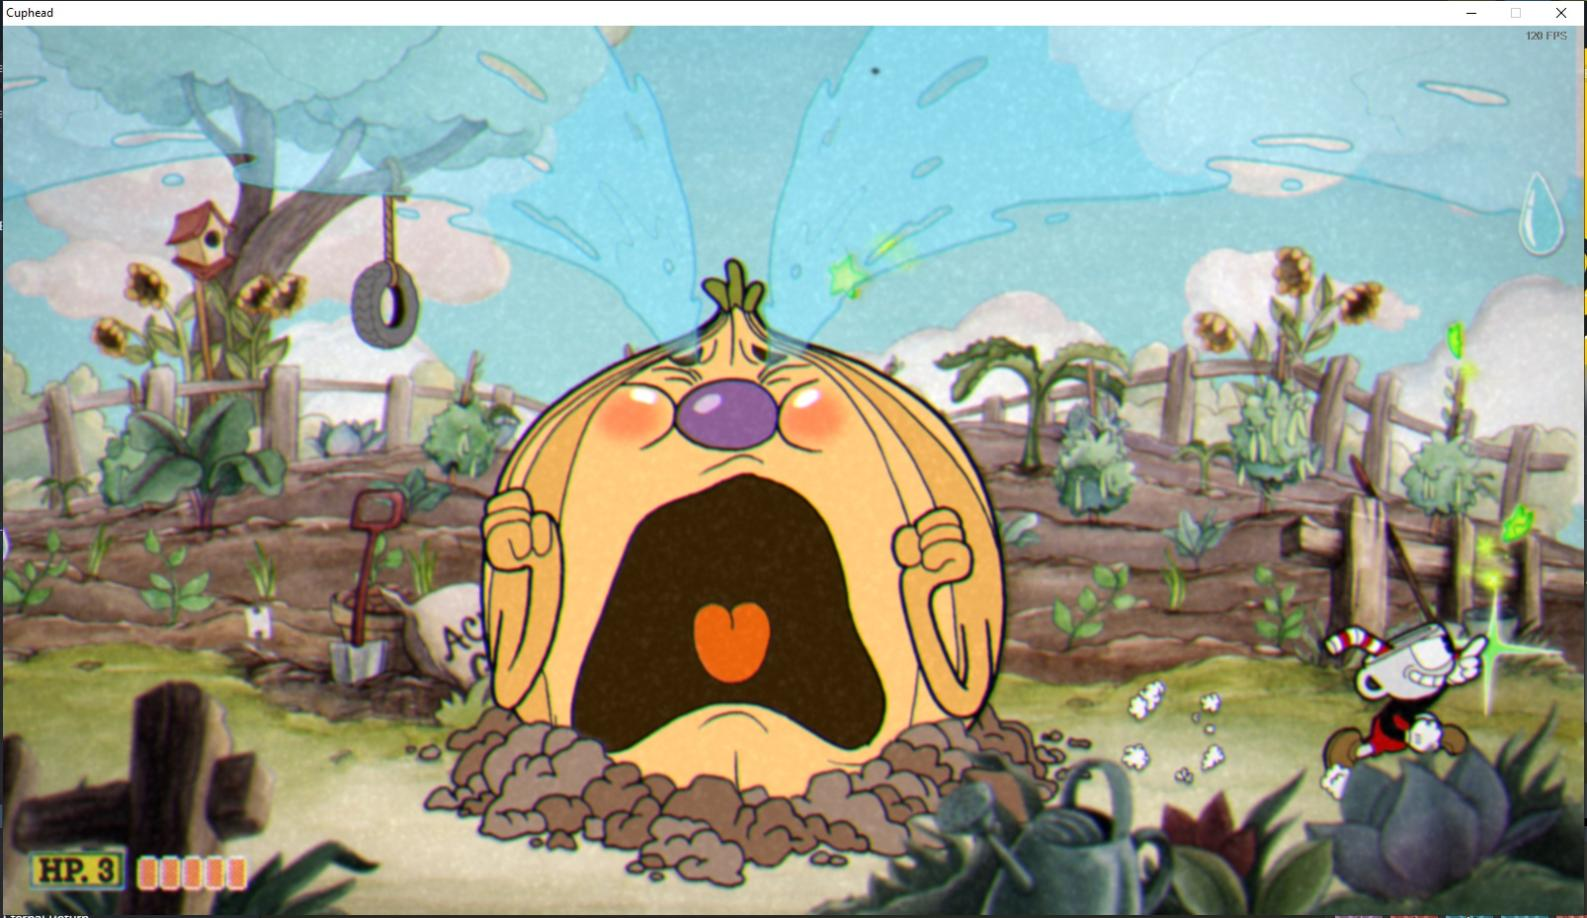hp3: (90, 853, 124, 889)
onion_boss: (477, 254, 1014, 836)
player: (1312, 612, 1494, 808)
rain: (1514, 166, 1570, 270)
